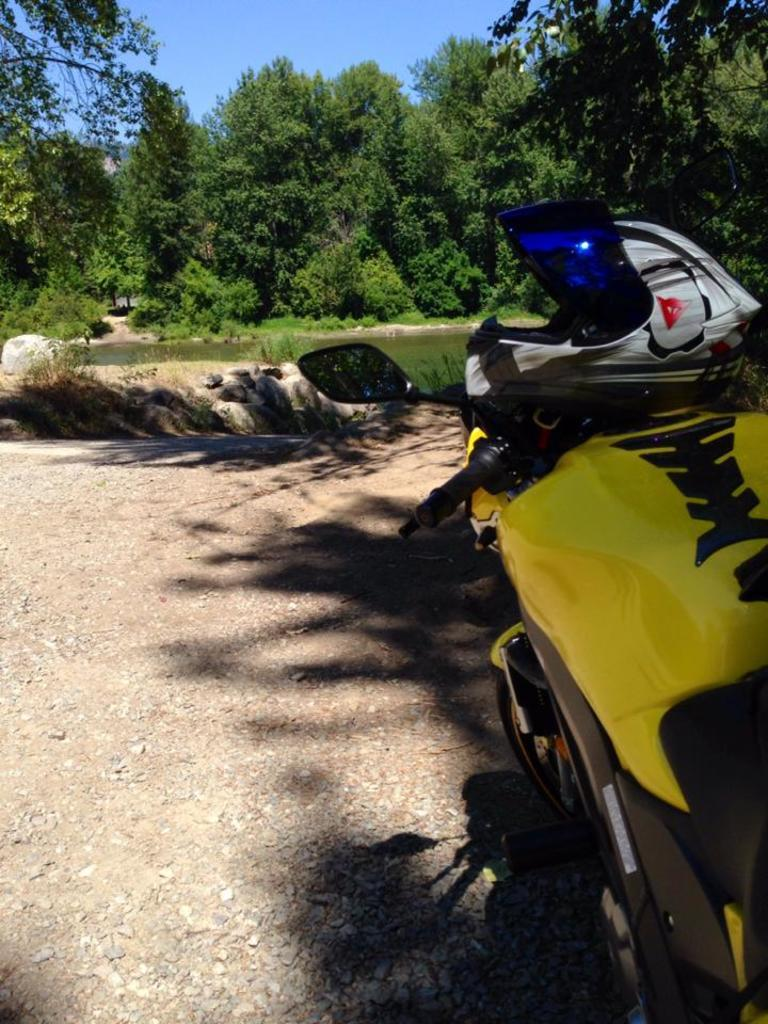helmet: (464, 199, 762, 412)
